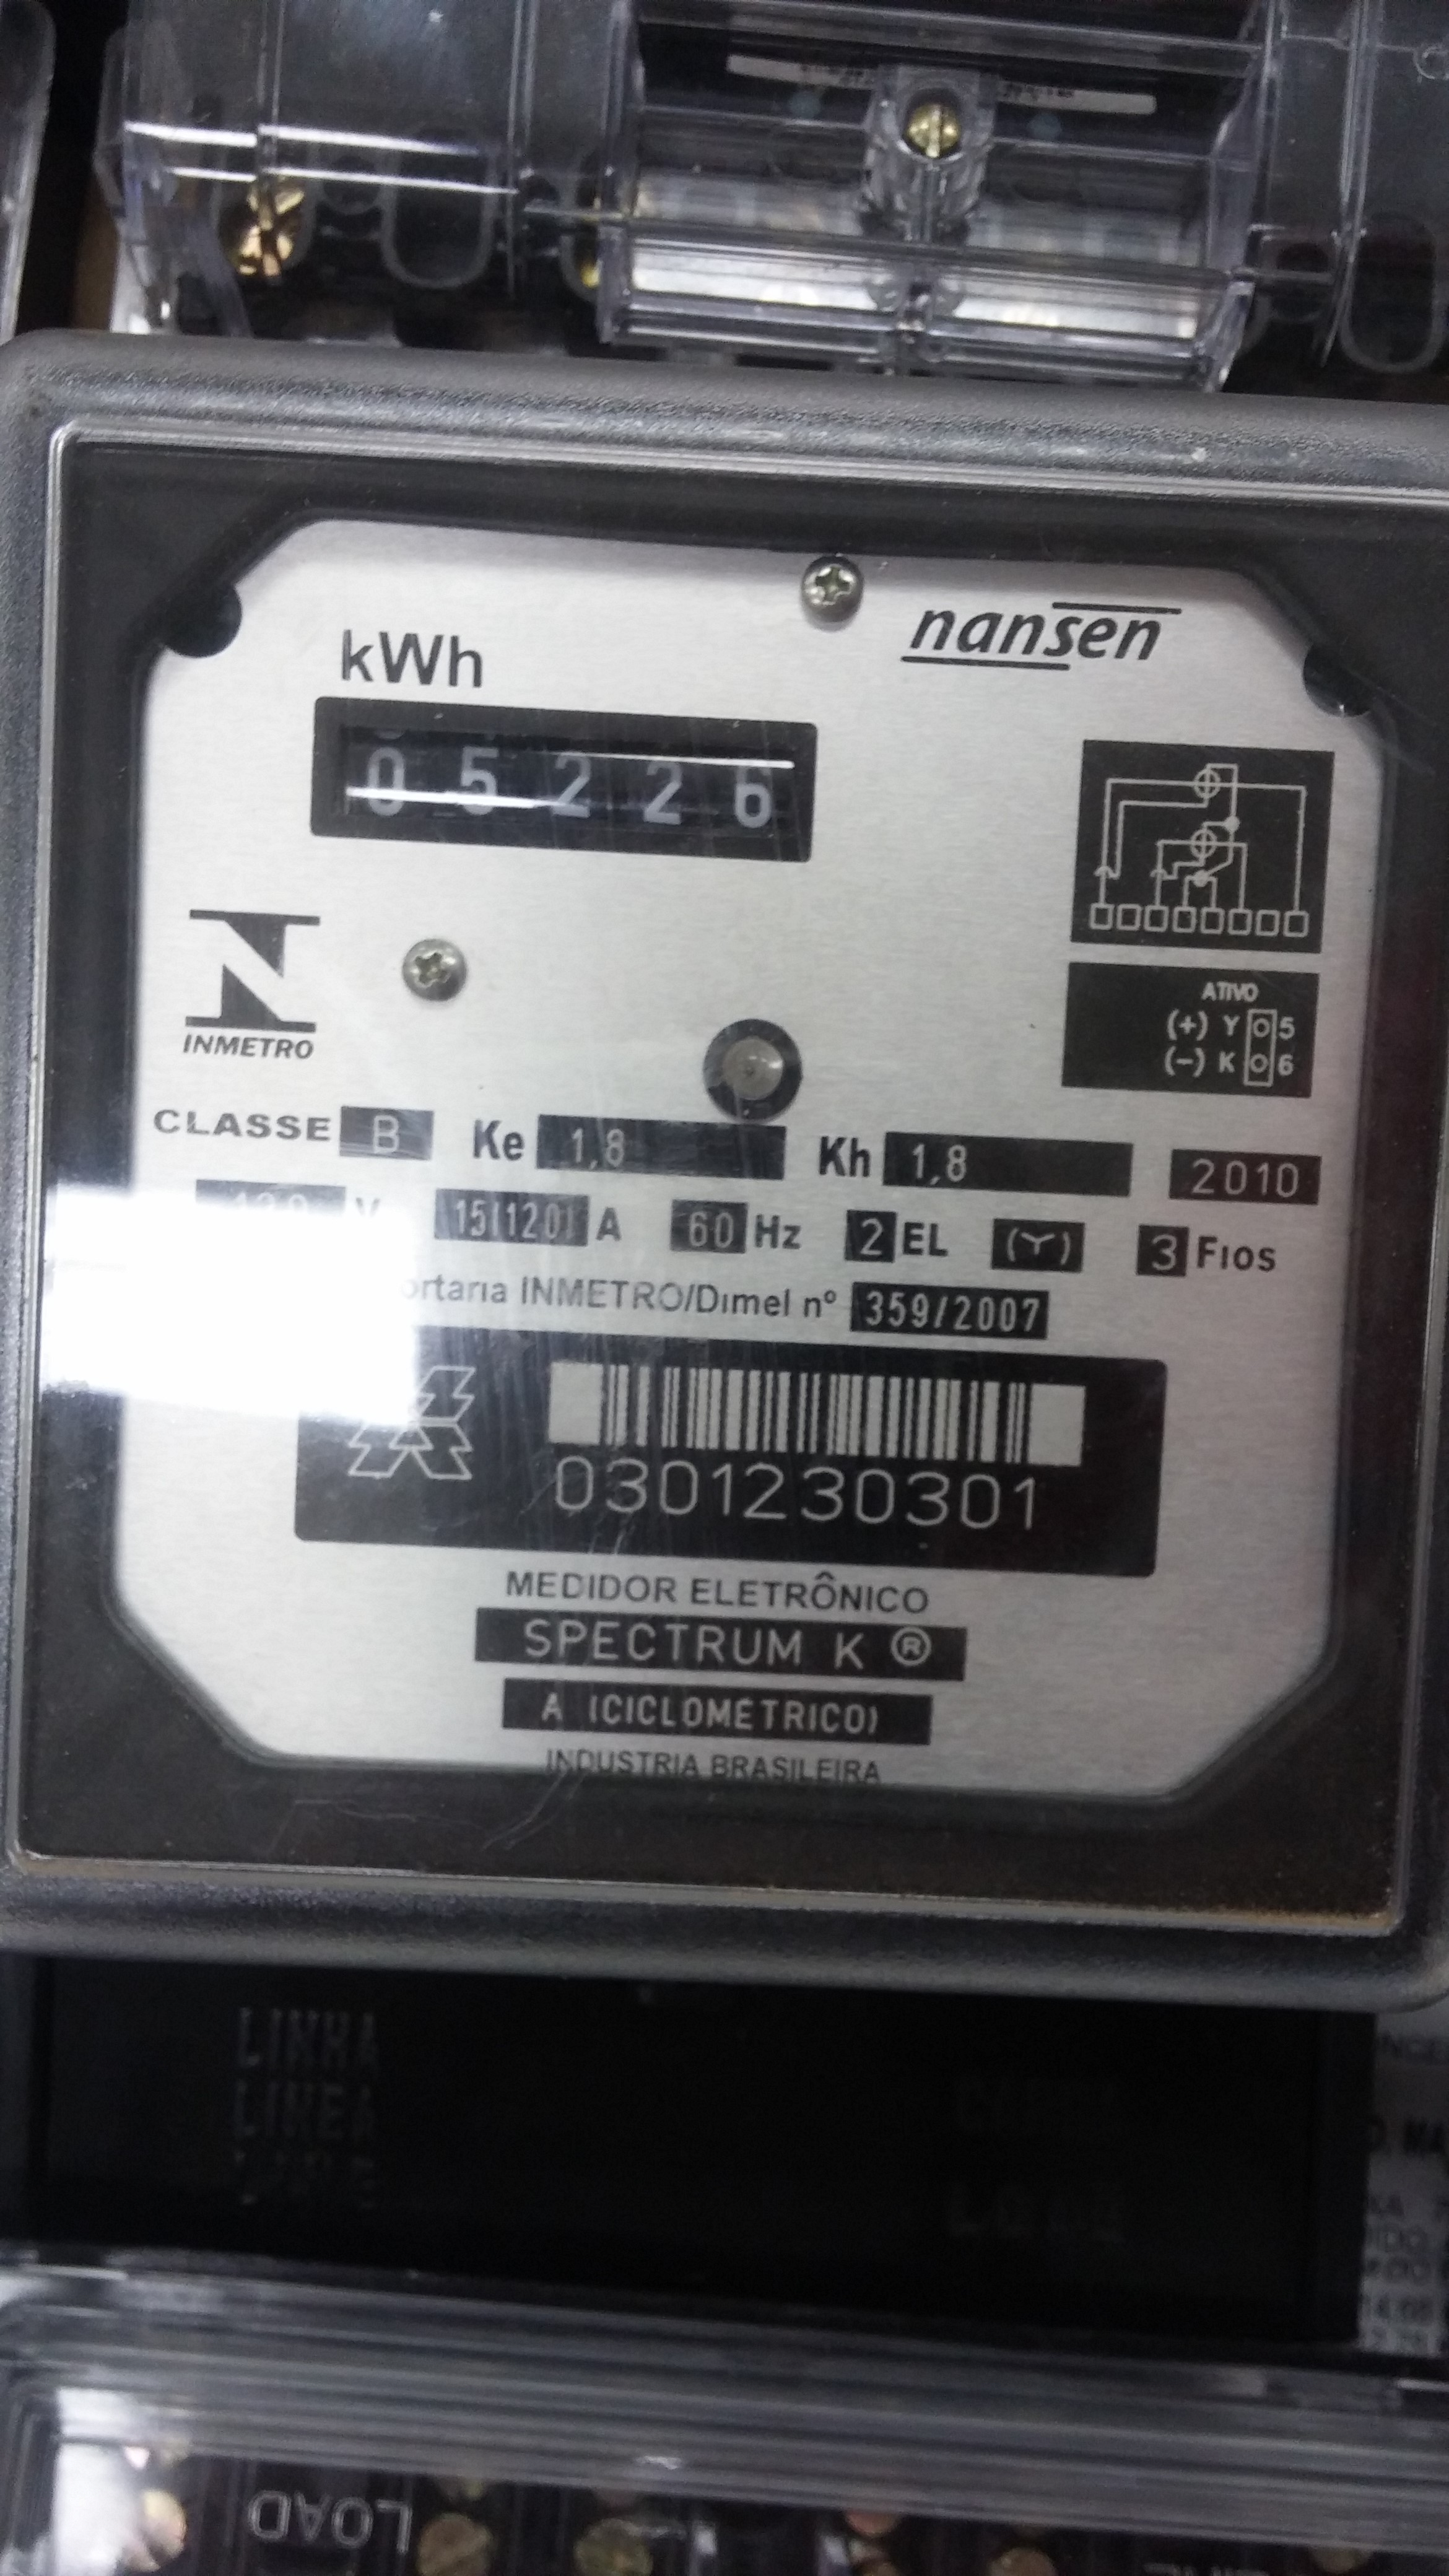counter3: (306, 681, 830, 878)
